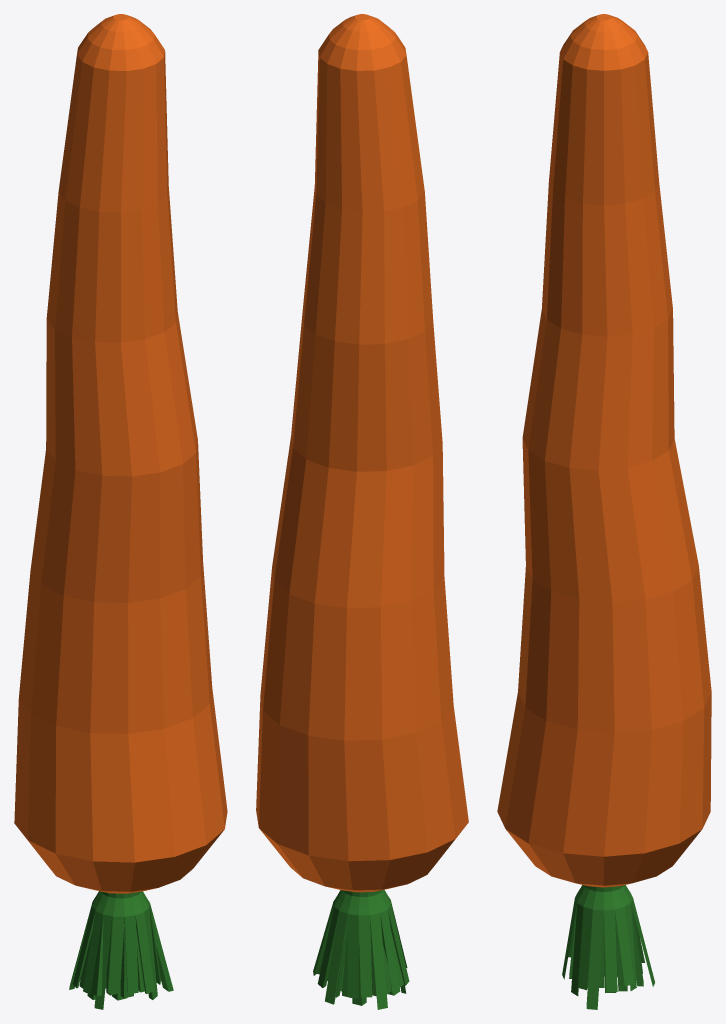
Rendered from Carrot.fbx.
The picture shows the model from 3 angles, left to right: view 1: azimuth 30°, elevation 25°; view 2: azimuth 150°, elevation 25°; view 3: azimuth 270°, elevation 25°; orthographic projection.
Parts seen in each view (by area): view 1: Carrot; view 2: Carrot; view 3: Carrot.
Part boxes in pixels (box(x1,y1,x2,y2)): Carrot: box(14, 14, 227, 1009); Carrot: box(256, 14, 468, 1009); Carrot: box(497, 14, 711, 1009).
Size of the model in its own units: 130 by 655 by 131.
